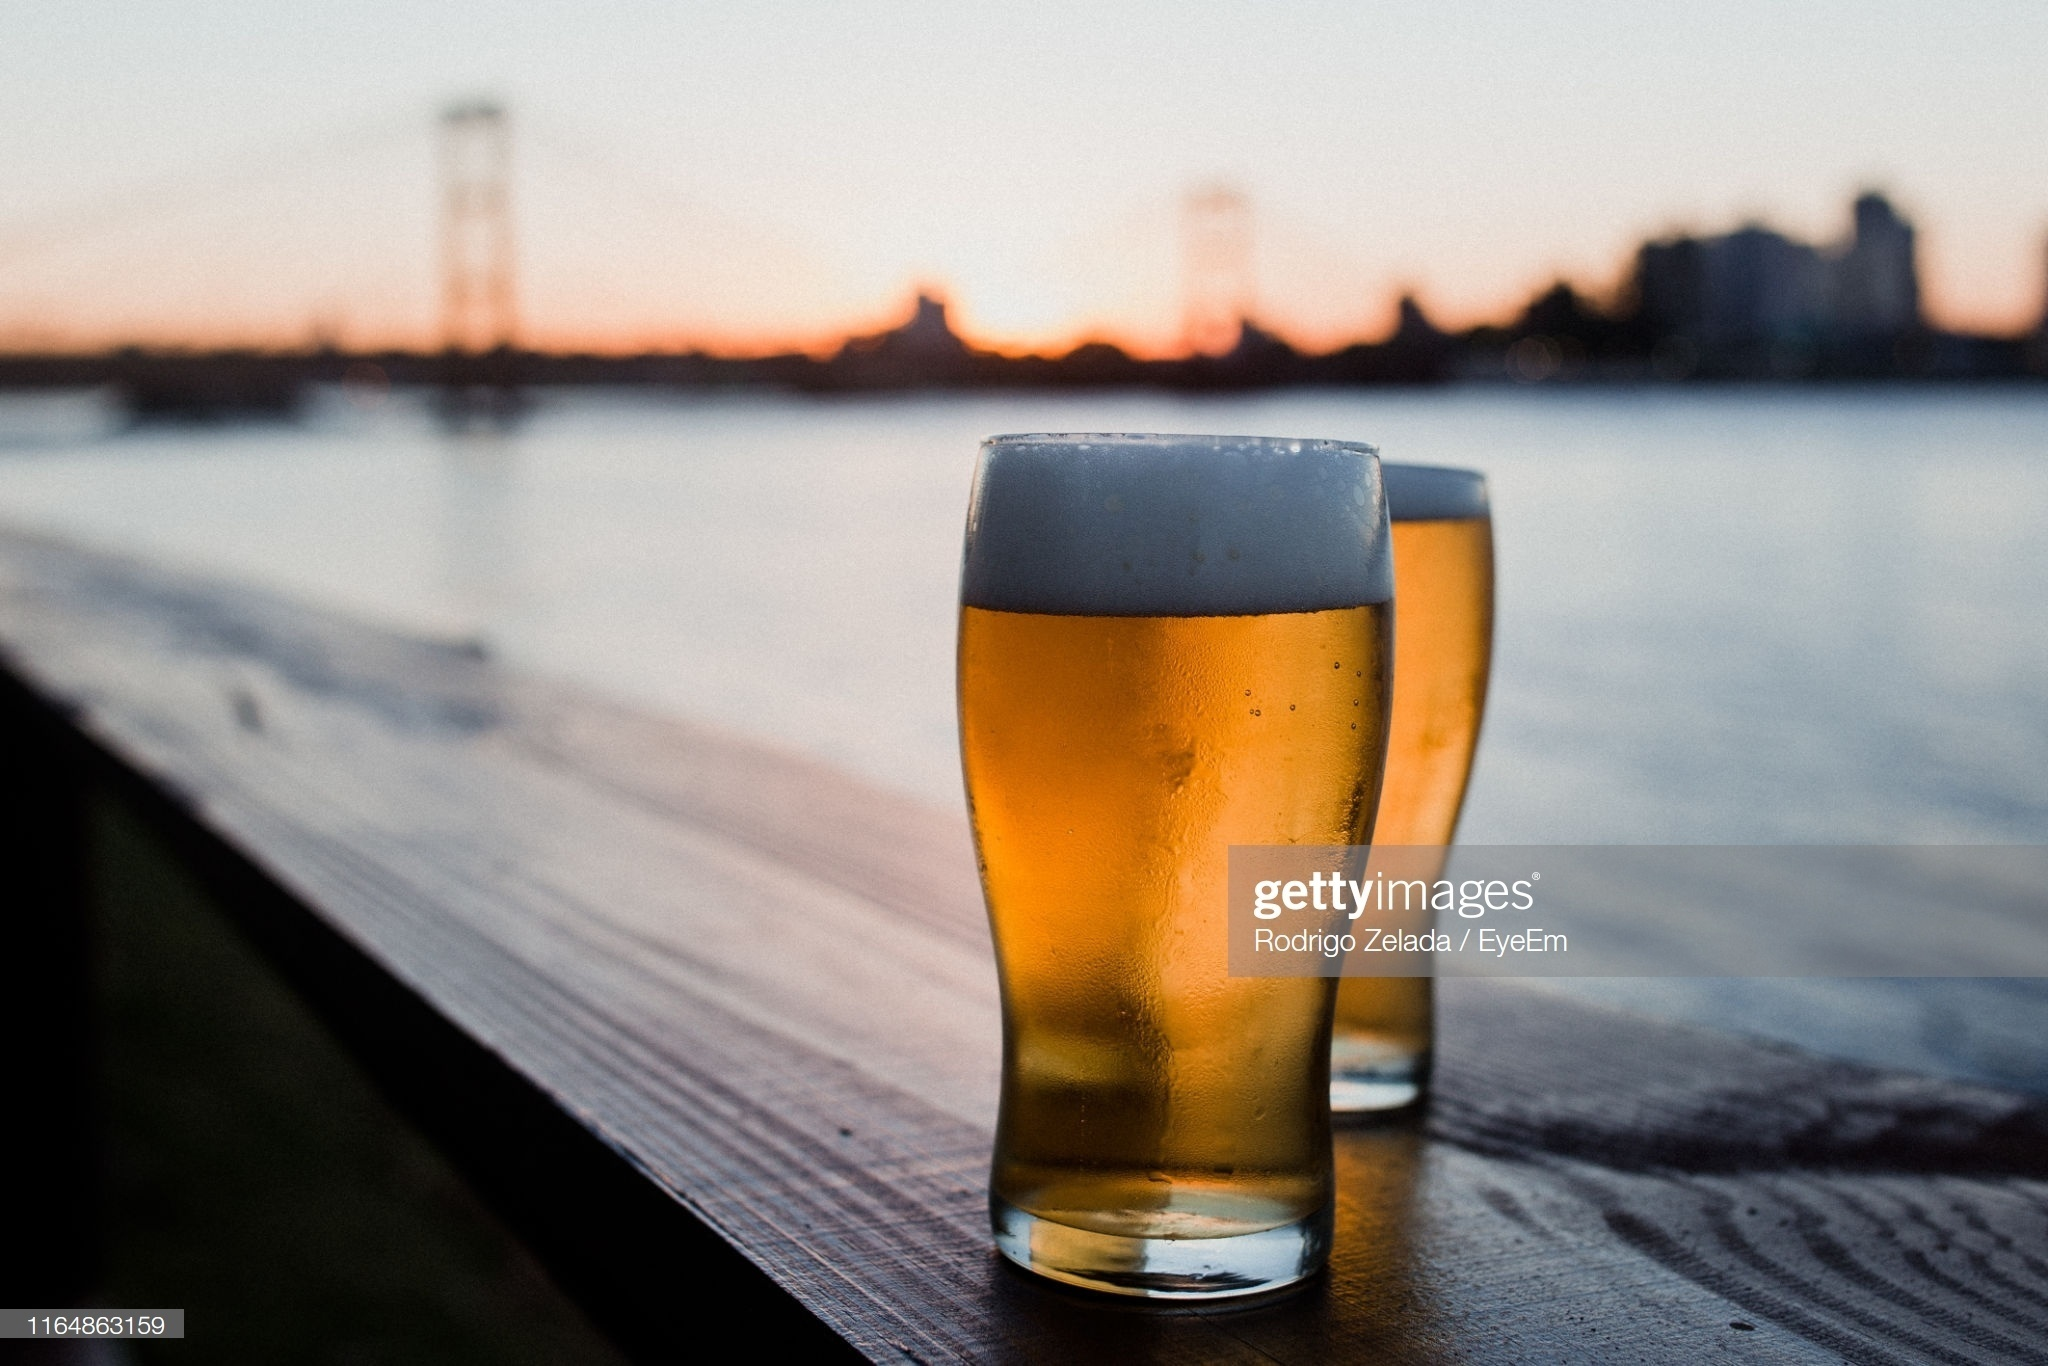whiskey: (940, 428, 1376, 1311)
